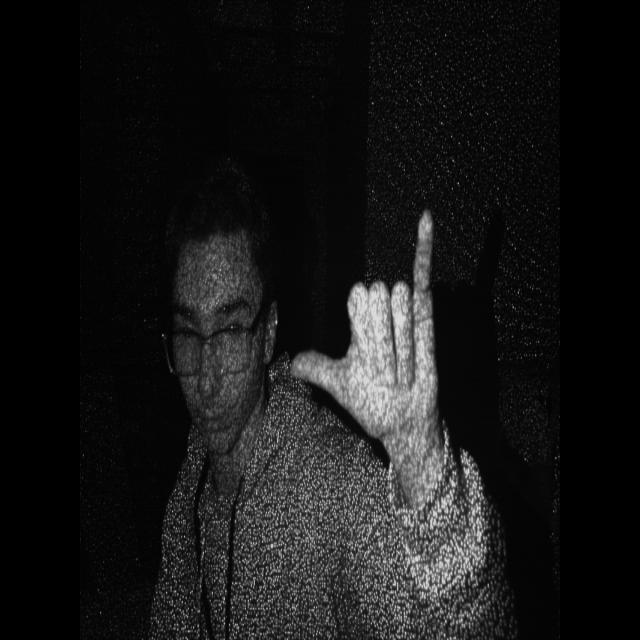Y: (278, 212, 494, 465)
